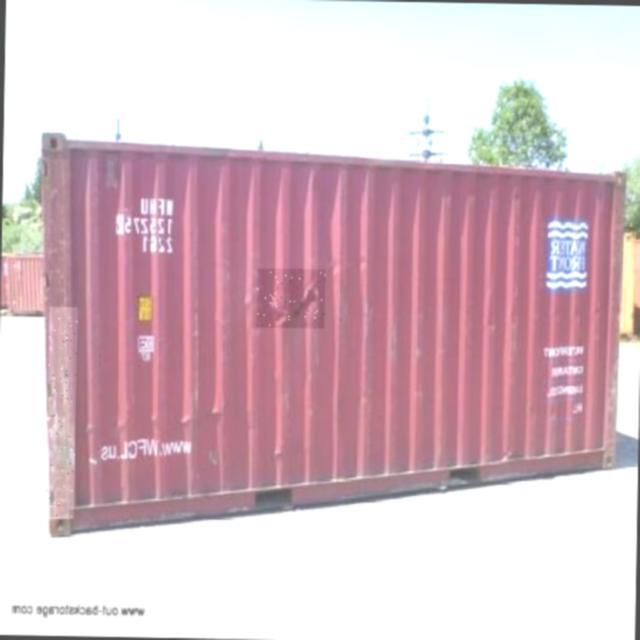Minor-Dent: (256, 268, 325, 328)
Rust: (46, 306, 78, 519)
